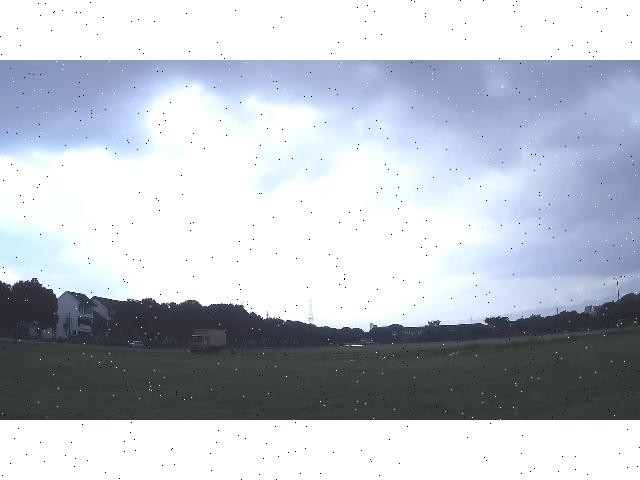Anti-Drone: (338, 345, 364, 347)
